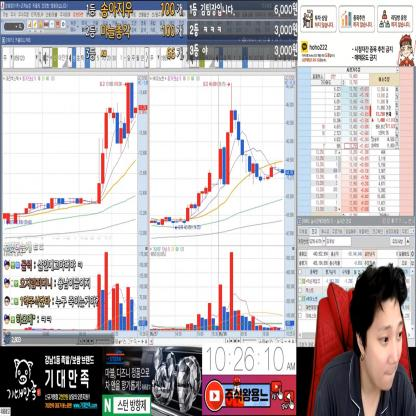streamer: (313, 263, 416, 416)
